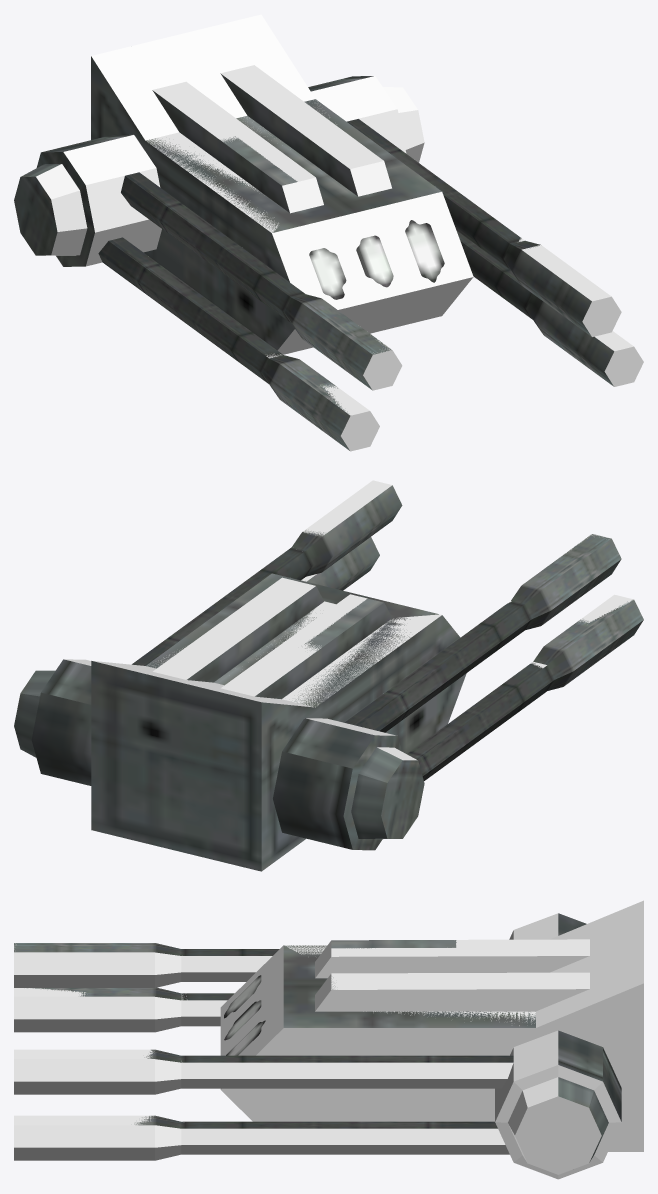
The model's file is Imperial_Transport_Turret.obj.
The picture shows the model from 3 angles, top to bottom: view 1: azimuth 30°, elevation 25°; view 2: azimuth 150°, elevation 25°; view 3: azimuth 270°, elevation 25°; orthographic projection.
Parts seen in each view (by area): view 1: Shadow_Turret, Barrel_01, Turret_01, Light_Turret; view 2: Turret_01, Barrel_01, Shadow_Turret; view 3: Shadow_Turret, Turret_01, Barrel_01, Light_Turret.
Boxes of the visible parts, bbox=[...] form: Shadow_Turret: bbox=[36, 14, 643, 451]; Barrel_01: bbox=[98, 119, 614, 450]; Turret_01: bbox=[14, 56, 441, 350]; Light_Turret: bbox=[309, 220, 444, 299]; Turret_01: bbox=[14, 573, 466, 871]; Barrel_01: bbox=[132, 485, 643, 780]; Shadow_Turret: bbox=[64, 480, 633, 760]; Shadow_Turret: bbox=[14, 900, 643, 1179]; Turret_01: bbox=[283, 913, 621, 1162]; Barrel_01: bbox=[14, 943, 513, 1128]; Light_Turret: bbox=[224, 975, 265, 1055].
Bounding box in the file's own units: 4.34 × 1.91 × 6.48.
